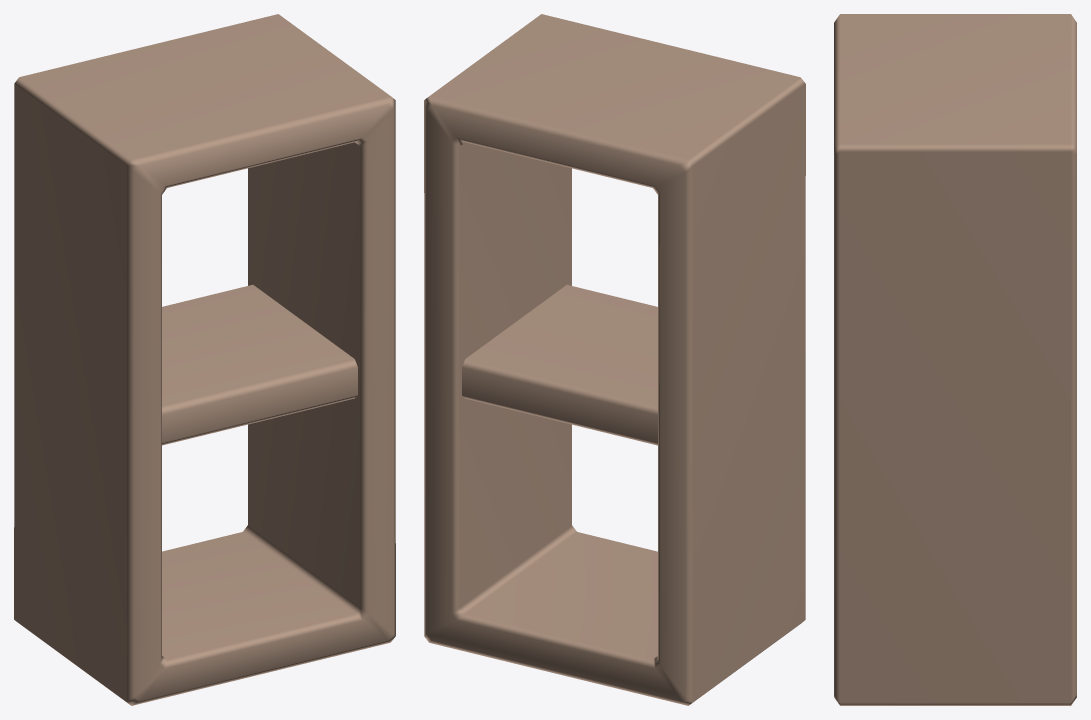
Rendered from Shelf_2.glb.
The picture shows the model from 3 angles, left to right: view 1: azimuth 30°, elevation 25°; view 2: azimuth 150°, elevation 25°; view 3: azimuth 270°, elevation 25°; orthographic projection. The views are drawn at different scales.
Visible parts, largest first — view 1: Shelf_2; view 2: Shelf_2; view 3: Shelf_2.
Boxes of the visible parts, box(x1,y1,x2,y2) form: Shelf_2: box(14, 14, 395, 705); Shelf_2: box(424, 14, 805, 705); Shelf_2: box(834, 14, 1076, 705).
Size of the model in its own units: 0.5959 by 1.16 by 0.4527.
Materials: 1 (1 with a texture image).
